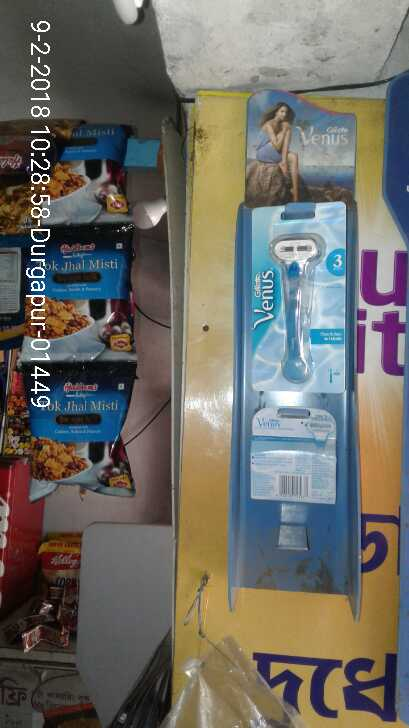venus: (239, 200, 351, 394)
